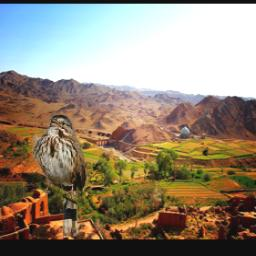Sparrow: (32, 113, 88, 237)
